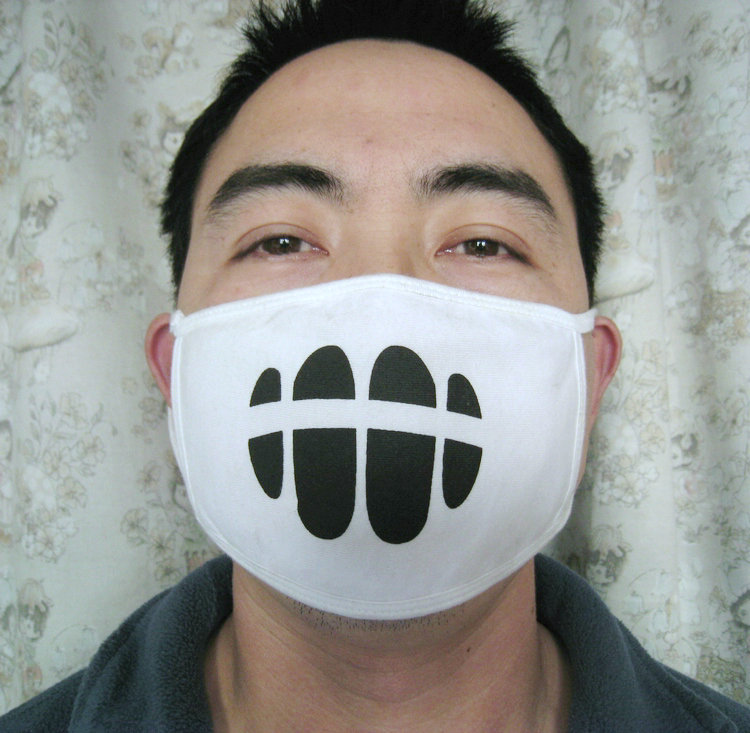face_mask: (176, 48, 585, 567)
